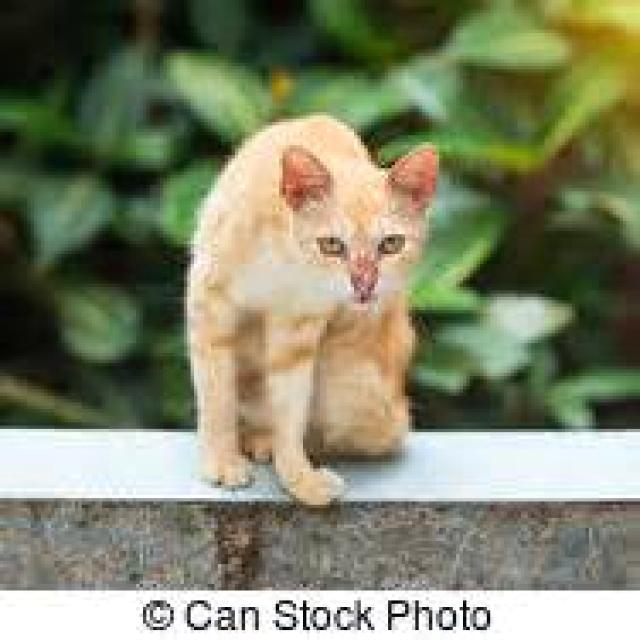KEDI: (181, 114, 493, 504)
